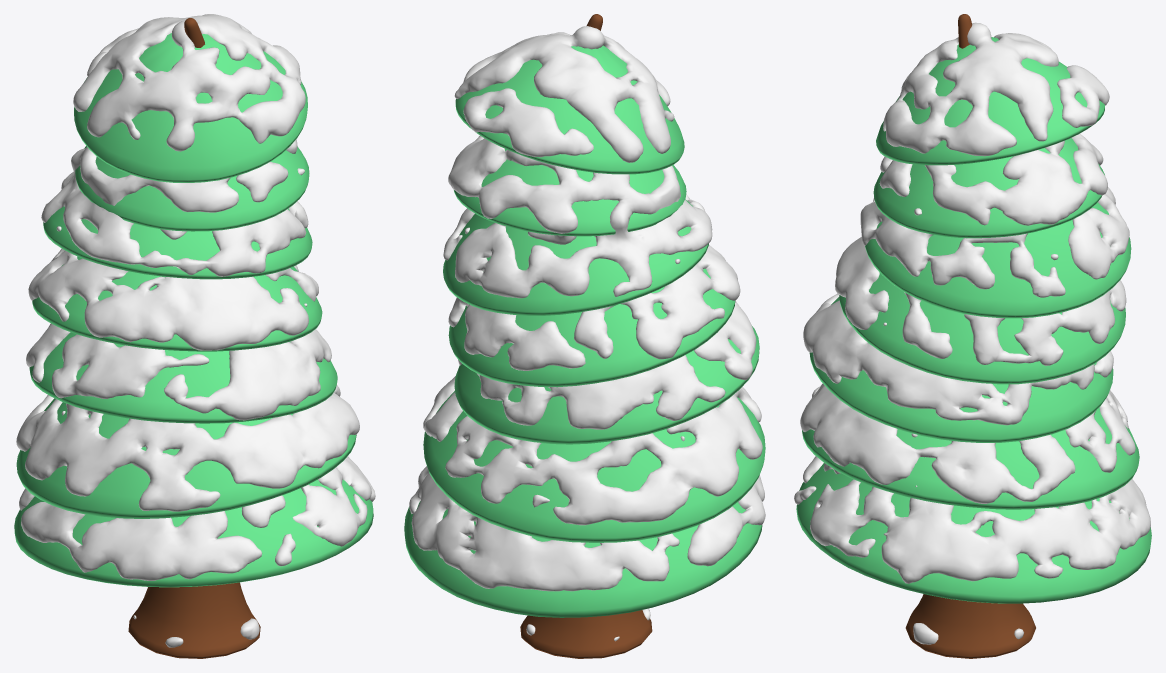
Rendered from spruce.glb.
3 renders of one model, left to right at view 1: azimuth 30°, elevation 25°; view 2: azimuth 150°, elevation 25°; view 3: azimuth 270°, elevation 25°, orthographic.
Parts seen in each view (by area): view 1: SnowBall.001, Cone.006; view 2: SnowBall.001, Cone.006; view 3: SnowBall.001, Cone.006.
Part boxes in pixels (<box>): SnowBall.001: <box>16,14,375,647</box>; Cone.006: <box>14,18,373,658</box>; SnowBall.001: <box>409,26,765,641</box>; Cone.006: <box>404,14,765,658</box>; SnowBall.001: <box>794,22,1150,644</box>; Cone.006: <box>796,14,1151,658</box>.
Bounding box in the file's own units: 1.32 × 2.51 × 1.32.
